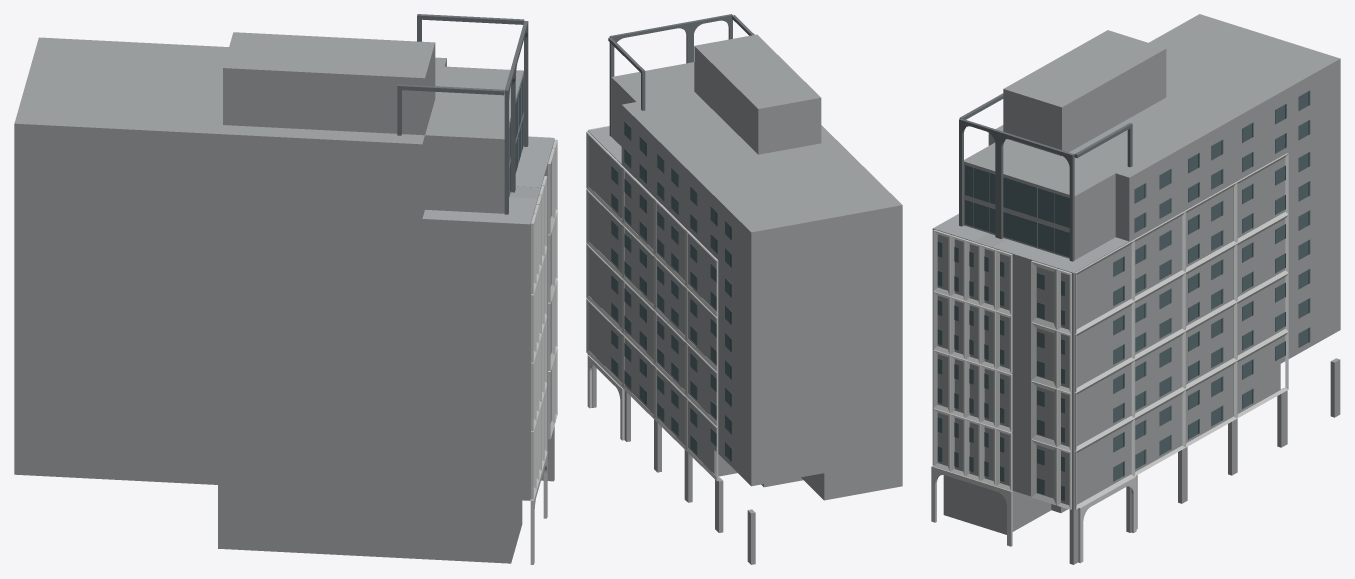
File: 50-high-exterior.glb
The picture shows the model from 3 angles, left to right: view 1: azimuth 30°, elevation 25°; view 2: azimuth 150°, elevation 25°; view 3: azimuth 270°, elevation 25°; orthographic projection. The views are drawn at different scales.
Visible parts, largest first — view 1: wf-50high-levels3-9, wf-50high-levels10-11-setbacks, wf-50high-ground-enclosure, wf-50high-mechanical-enclosure, wf-50high-level2, South_beveled_two_storey_frames, Original_terrace_footprints_12mm_display_relief, South_paired_open_roof_arches, Roof_frame_returns_A103, South_upper_glazing_indication, South_ground_open_arch; view 2: wf-50high-levels3-9, wf-50high-levels10-11-setbacks, wf-50high-mechanical-enclosure, East_source_visible_window_rhythm, East_two_storey_frame_grid, wf-50high-level2, South_paired_open_roof_arches, East_fine_window_divisions, East_ground_open_arch, Roof_frame_returns_A103, Original_terrace_footprints_12mm_display_relief, wf-50high-ground-column-5 (+2 smaller); view 3: wf-50high-levels3-9, wf-50high-levels10-11-setbacks, South_beveled_two_storey_frames, East_source_visible_window_rhythm, wf-50high-mechanical-enclosure, East_two_storey_frame_grid, wf-50high-level2, South_upper_glazing_indication, South_source_visible_window_rhythm, wf-50high-ground-enclosure, South_paired_open_roof_arches, Original_terrace_footprints_12mm_display_relief (+9 smaller).
Part boxes in pixels (bbox=[...]): wf-50high-levels3-9: bbox=[14, 139, 554, 466]; wf-50high-levels10-11-setbacks: bbox=[14, 37, 523, 218]; wf-50high-ground-enclosure: bbox=[218, 485, 522, 563]; wf-50high-mechanical-enclosure: bbox=[223, 32, 435, 135]; wf-50high-level2: bbox=[14, 392, 551, 500]; South_beveled_two_storey_frames: bbox=[531, 139, 557, 499]; Original_terrace_footprints_12mm_display_relief: bbox=[422, 136, 554, 224]; South_paired_open_roof_arches: bbox=[504, 21, 528, 214]; Roof_frame_returns_A103: bbox=[397, 14, 524, 135]; South_upper_glazing_indication: bbox=[509, 76, 523, 196]; South_ground_open_arch: bbox=[530, 452, 547, 564]; wf-50high-levels3-9: bbox=[589, 132, 902, 486]; wf-50high-levels10-11-setbacks: bbox=[611, 62, 902, 292]; wf-50high-mechanical-enclosure: bbox=[694, 34, 821, 154]; East_source_visible_window_rhythm: bbox=[611, 121, 732, 461]; East_two_storey_frame_grid: bbox=[586, 131, 718, 480]; wf-50high-level2: bbox=[589, 326, 902, 500]; South_paired_open_roof_arches: bbox=[609, 14, 732, 136]; East_fine_window_divisions: bbox=[617, 127, 731, 461]; East_ground_open_arch: bbox=[587, 355, 624, 440]; Roof_frame_returns_A103: bbox=[608, 15, 754, 110]; Original_terrace_footprints_12mm_display_relief: bbox=[587, 126, 621, 163]; wf-50high-ground-column-5: bbox=[747, 509, 755, 564]; wf-50high-levels3-9: bbox=[932, 122, 1340, 480]; wf-50high-levels10-11-setbacks: bbox=[964, 14, 1340, 259]; South_beveled_two_storey_frames: bbox=[933, 229, 1071, 509]; East_source_visible_window_rhythm: bbox=[1113, 90, 1310, 481]; wf-50high-mechanical-enclosure: bbox=[1003, 30, 1166, 156]; East_two_storey_frame_grid: bbox=[1074, 153, 1288, 509]; wf-50high-level2: bbox=[932, 364, 1280, 509]; South_upper_glazing_indication: bbox=[965, 165, 1069, 257]; South_source_visible_window_rhythm: bbox=[937, 241, 1064, 501]; wf-50high-ground-enclosure: bbox=[943, 475, 1067, 534]; South_paired_open_roof_arches: bbox=[959, 118, 1074, 261]; Original_terrace_footprints_12mm_display_relief: bbox=[933, 214, 1128, 272].
Bounding box in the file's own units: 42.29 × 40.8 × 37.38.
